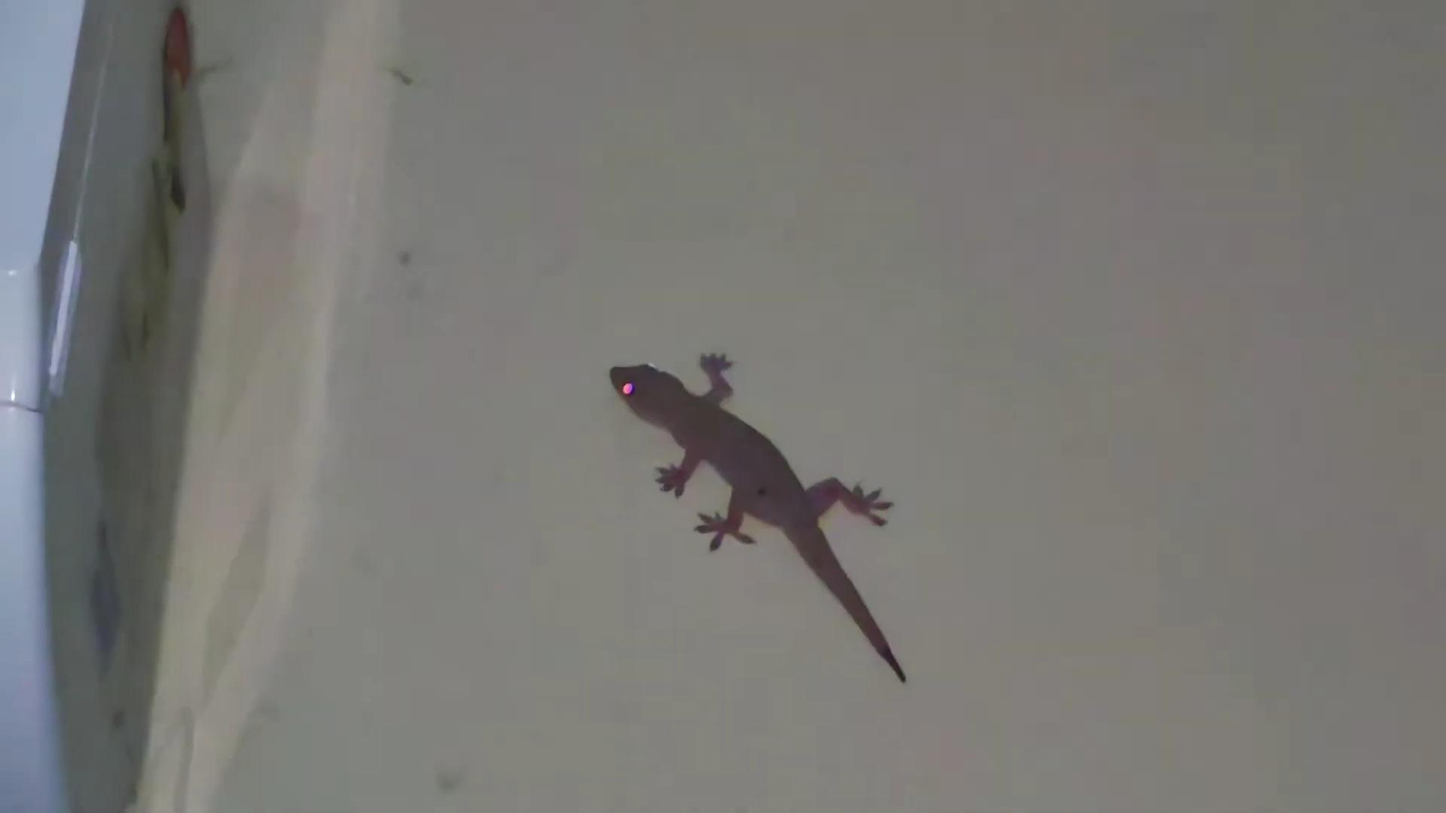lizard: (584, 332, 933, 700)
